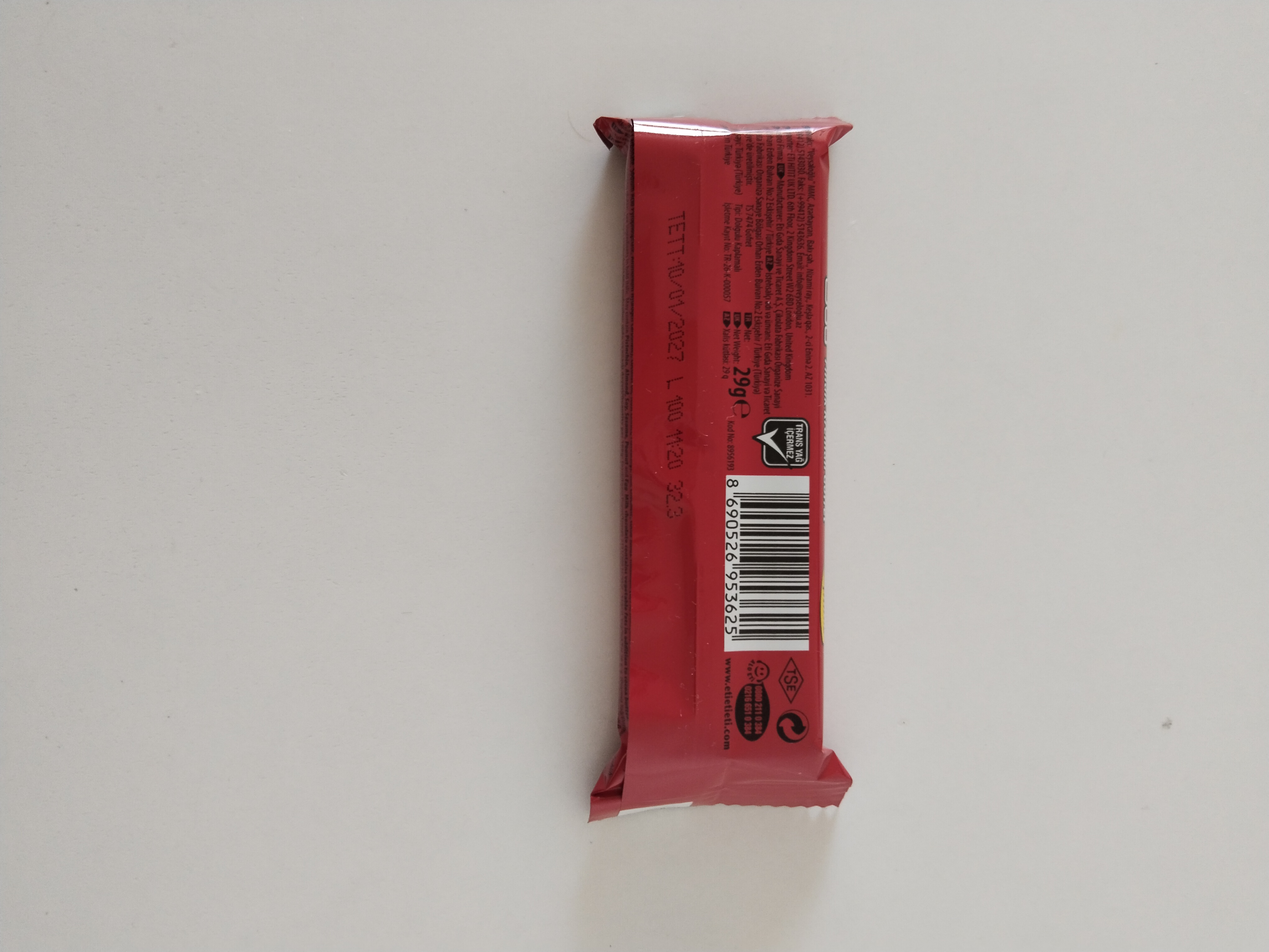eti_hosbes_gofret: (592, 116, 842, 829)
